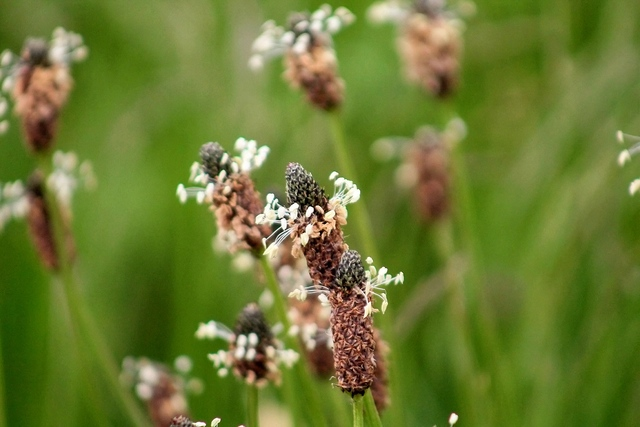buckhorn plantain: (274, 171, 420, 427)
